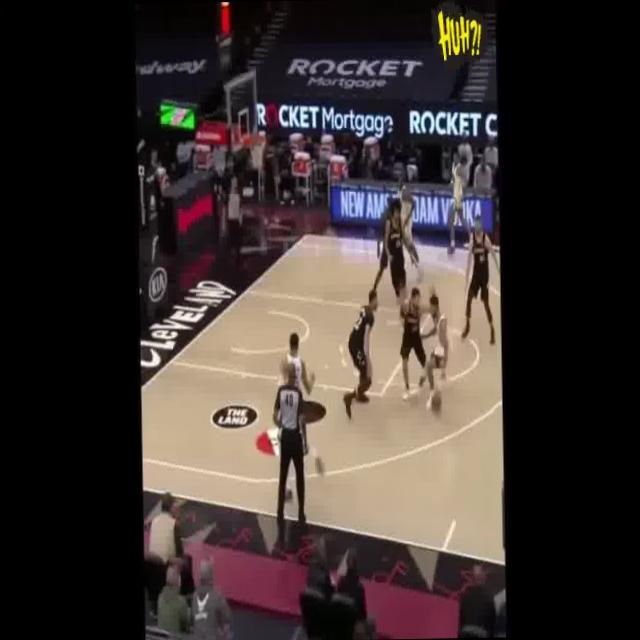ball-handler: (412, 291, 454, 421)
